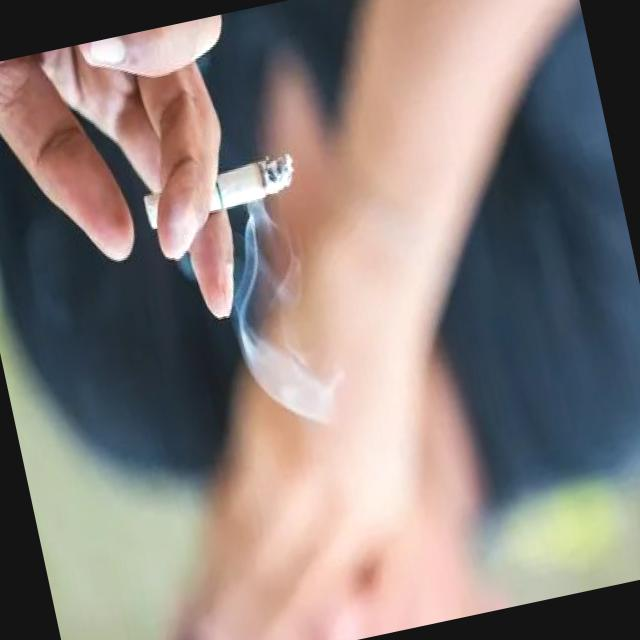smoke: (135, 138, 306, 242)
